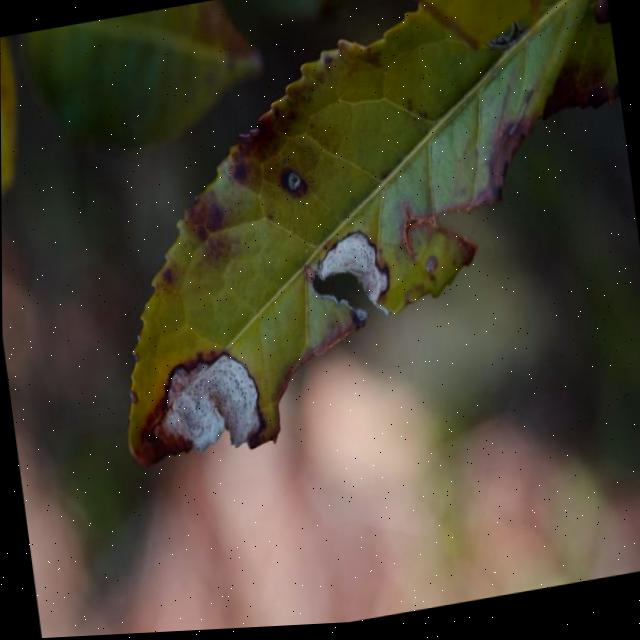Tea cloud leaf blight: (140, 332, 275, 472), (295, 223, 404, 342)
